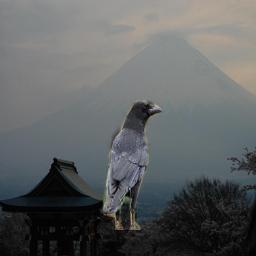Crow: (101, 100, 162, 230)
